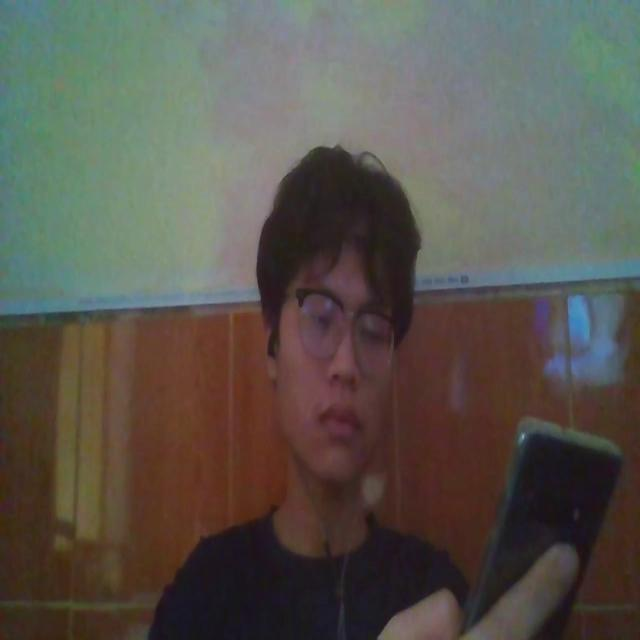phone: (466, 402, 628, 640)
student: (146, 144, 469, 640)
